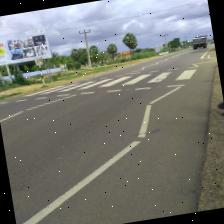crossing: (0, 57, 208, 119)
